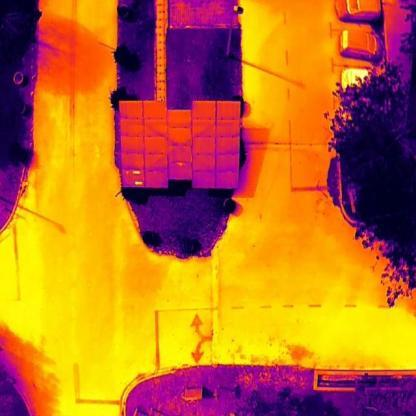anomaly: (134, 181, 144, 186), (132, 170, 141, 175)
